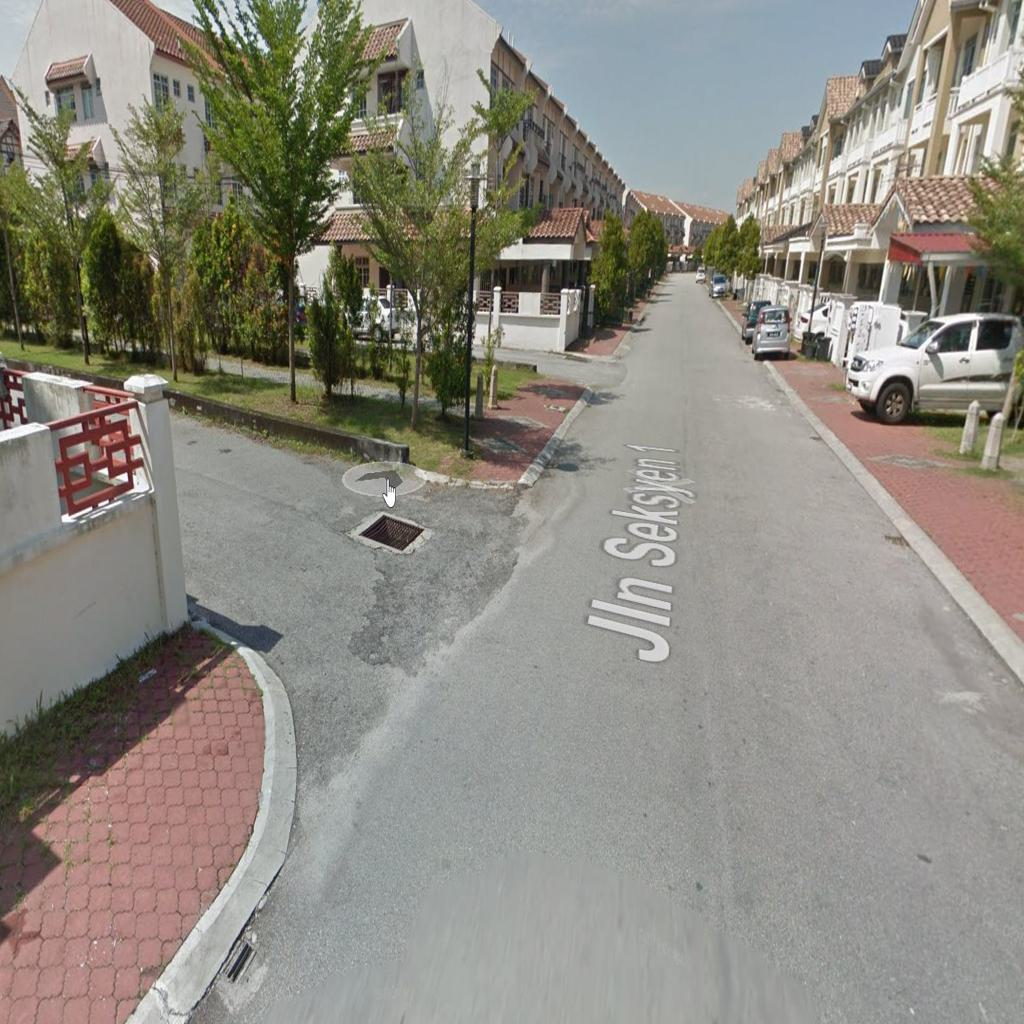Junction: (191, 413, 531, 740), (515, 326, 645, 404)
